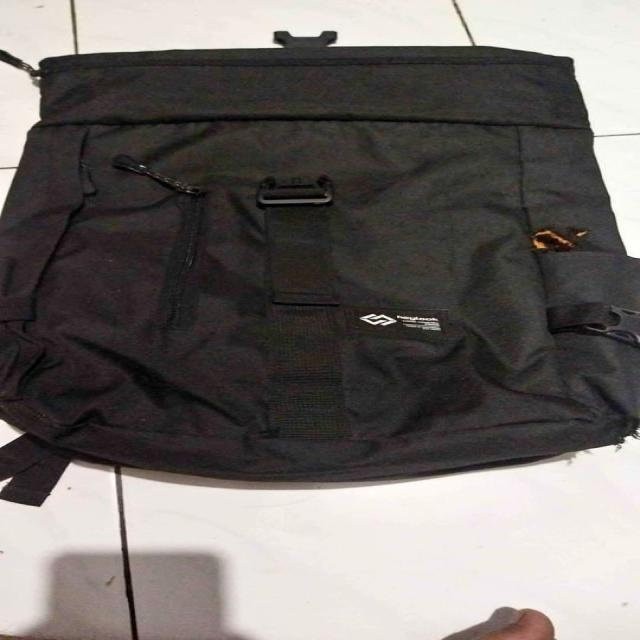bag: (5, 47, 640, 480)
